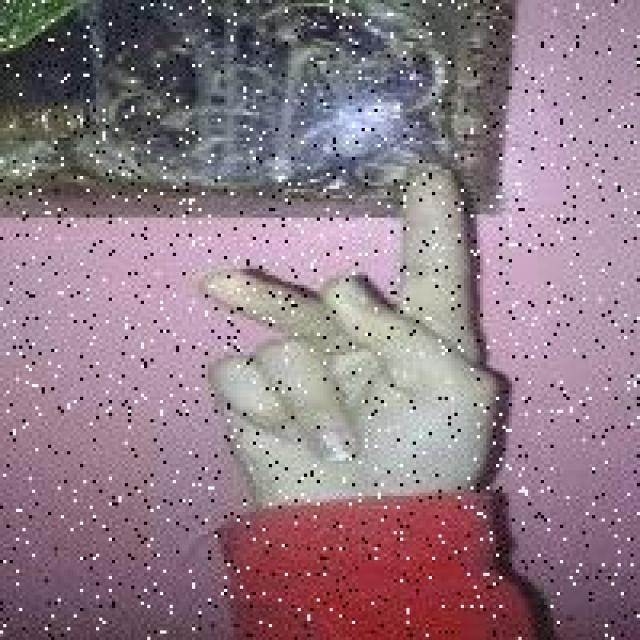K: (202, 165, 515, 507)
